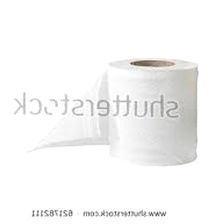tissue: (17, 50, 206, 172)
